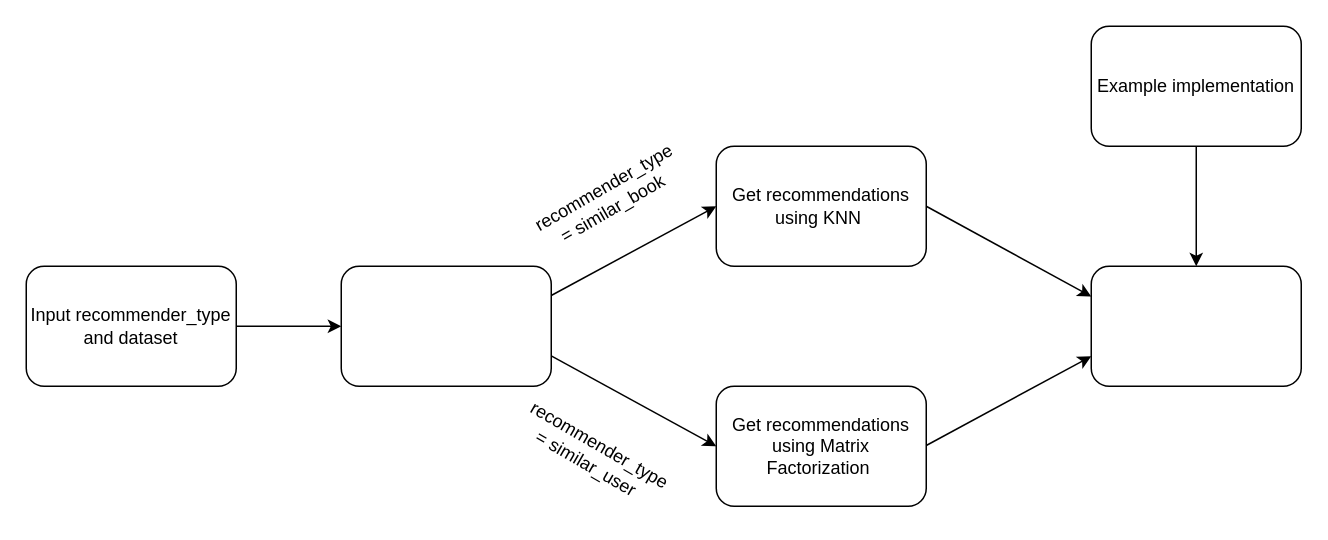
This 1328x540 diagram has some shape labels left out. Each missing label, with the box of its shape:
Process data and create BookDataset: (340, 265, 551, 386)
Run with a single interface using System: (1090, 265, 1301, 386)
